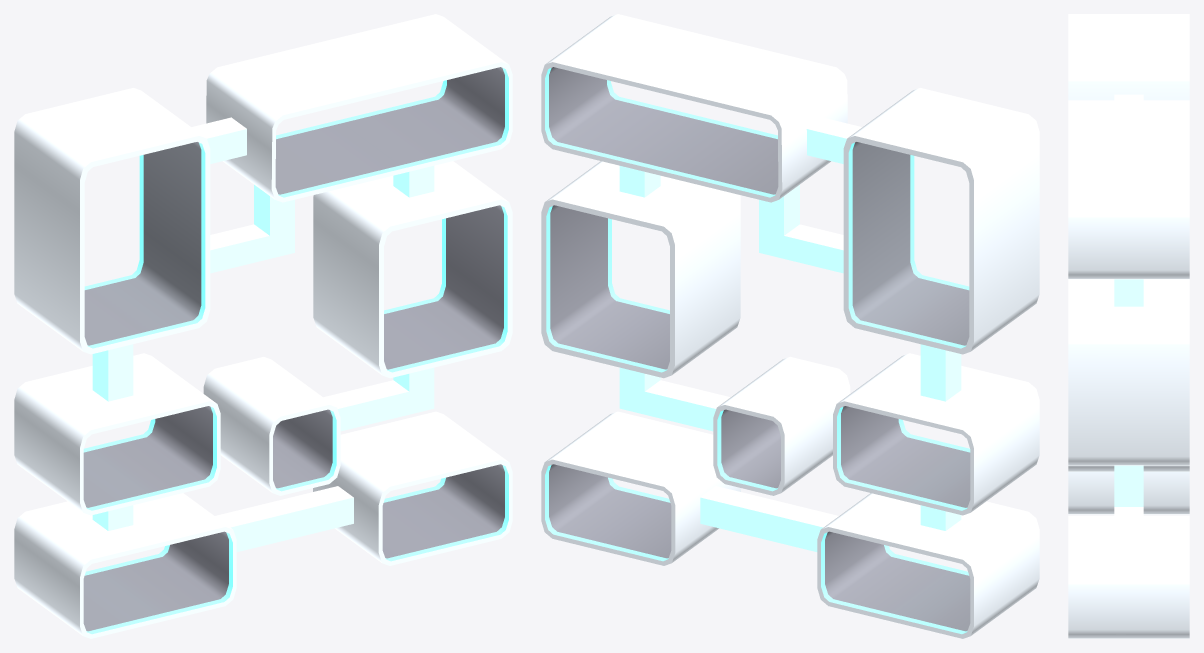
File: obj_shelf.gltf
The picture shows the model from 3 angles, left to right: view 1: azimuth 30°, elevation 25°; view 2: azimuth 150°, elevation 25°; view 3: azimuth 270°, elevation 25°; orthographic projection. The views are drawn at different scales.
Visible parts, largest first — view 1: obj_shelf; view 2: obj_shelf; view 3: obj_shelf.
Boxes of the visible parts, box(x1,y1,x2,y2) form: obj_shelf: box(14, 14, 512, 638); obj_shelf: box(541, 14, 1039, 638); obj_shelf: box(1068, 14, 1189, 638).
Size of what is drawn, in the model's own units: 3.64 by 3.83 by 0.9567.
2 materials, 1 textured.
